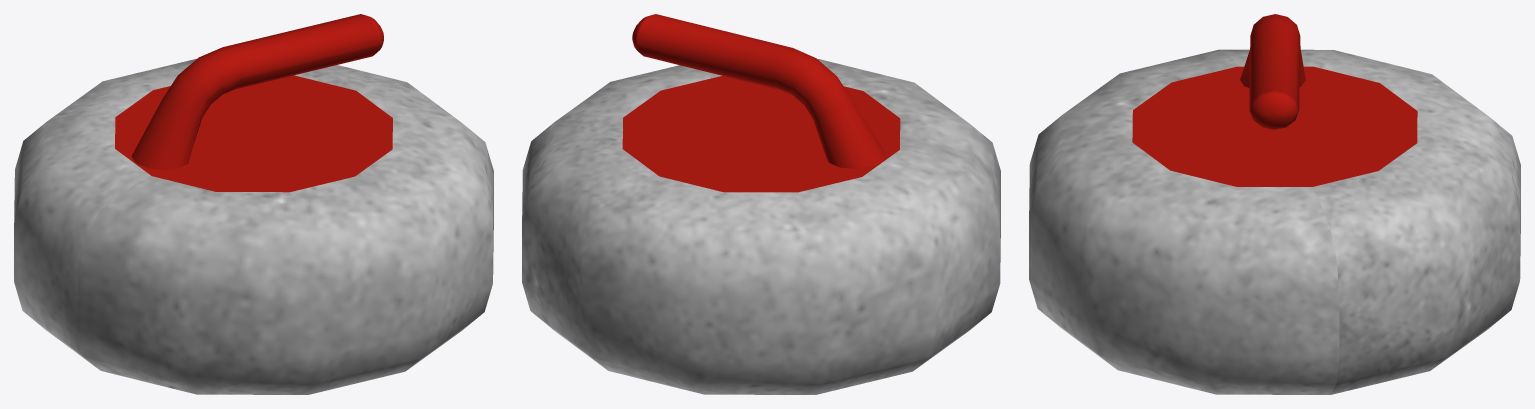
File: CurlingRed.fbx
3 views of the same model, side by side, from view 1: azimuth 30°, elevation 25°; view 2: azimuth 150°, elevation 25°; view 3: azimuth 270°, elevation 25° (orthographic). The views are drawn at different scales.
Visible parts, largest first — view 1: Curling-Red; view 2: Curling-Red; view 3: Curling-Red.
Part boxes in pixels (x1,y1,x2,y2): Curling-Red: [14, 14, 493, 394]; Curling-Red: [522, 14, 1000, 394]; Curling-Red: [1029, 14, 1520, 394].
Bounding box in the file's own units: 28.16 × 17.6 × 28.16.
